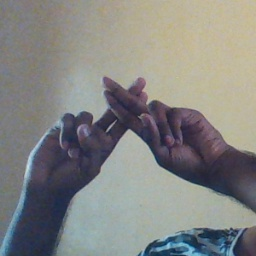F: (68, 71, 192, 167)
